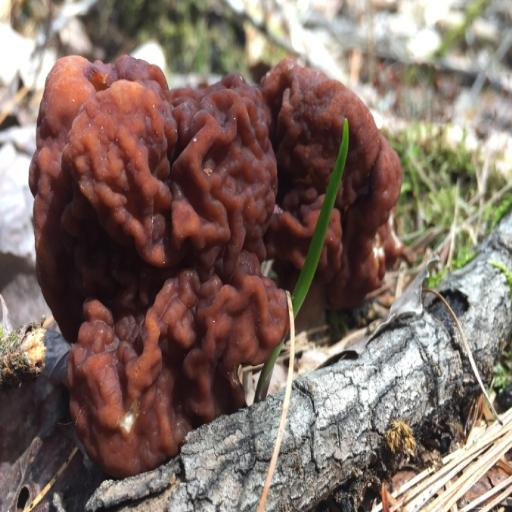False Morel: (4, 0, 440, 475)
